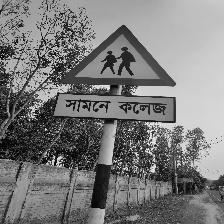College-in-front: (40, 15, 193, 139)
